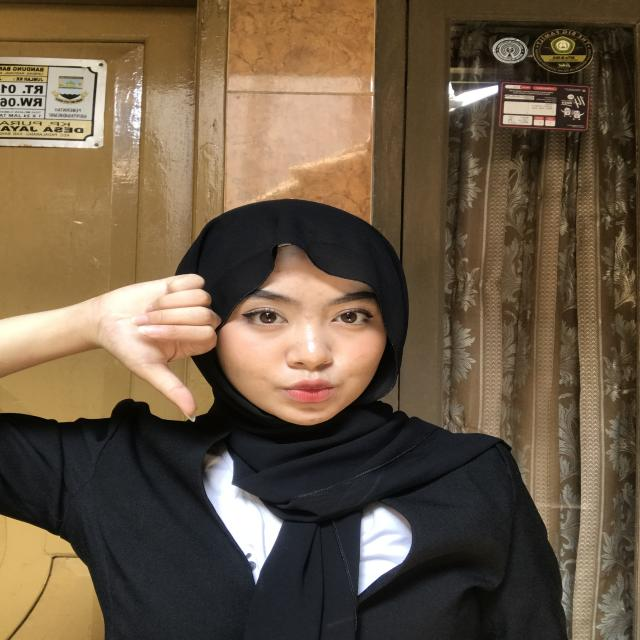sedih: (36, 265, 259, 431)
